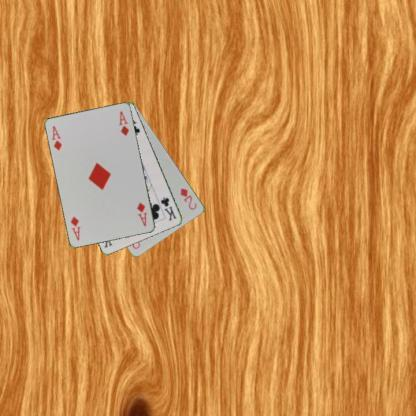2d: (178, 186, 198, 210)
Ad: (134, 200, 148, 228), (50, 124, 63, 152)
Kc: (158, 195, 178, 222)
